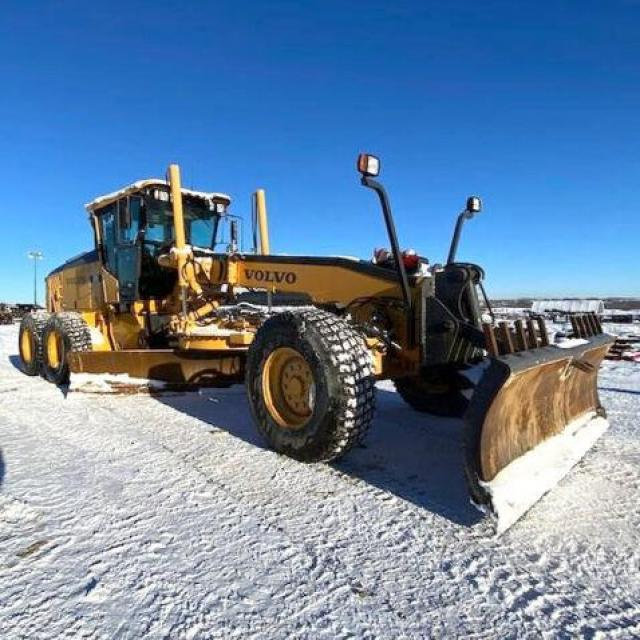Grader: (4, 139, 639, 536)
